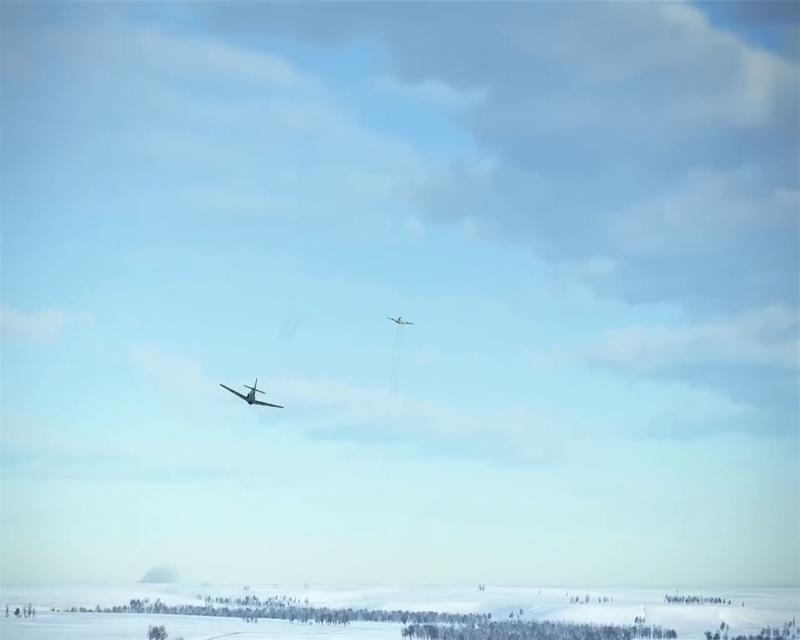UAV: (219, 377, 284, 409), (388, 312, 412, 328)
